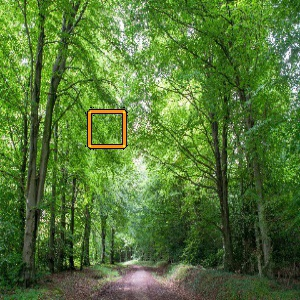square: (85, 107, 129, 150)
